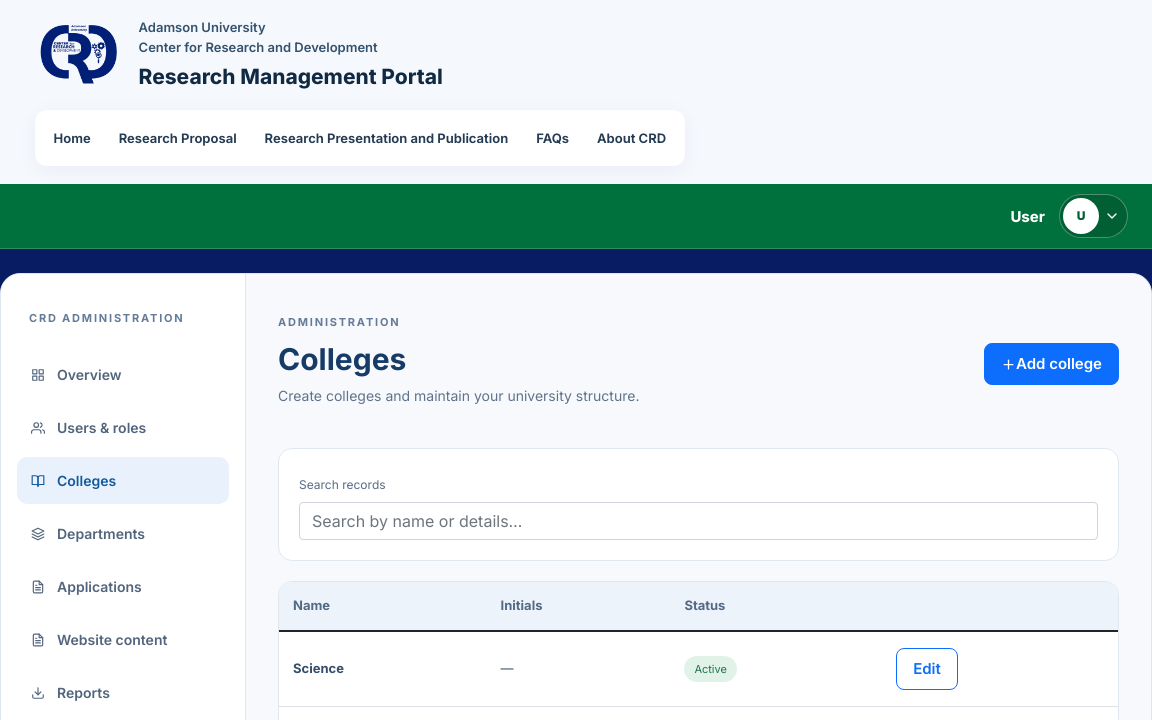
Scenario: switching admin sections does not render previous-section rows in the new view
The width and height of the screenshot is (1152, 720).
Step 1. Click the link "Applications" → coordinates (86, 587), box [31,578,142,596]
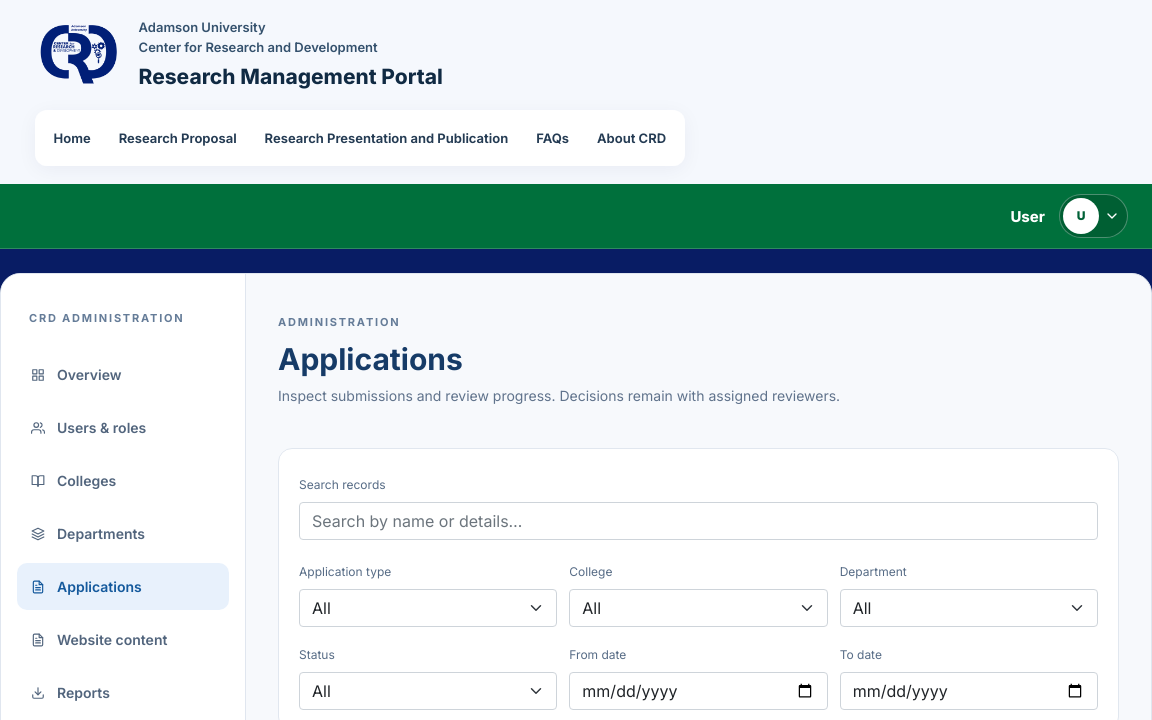
Step 2. Click the link "Overview" → coordinates (76, 375), box [31,366,122,384]
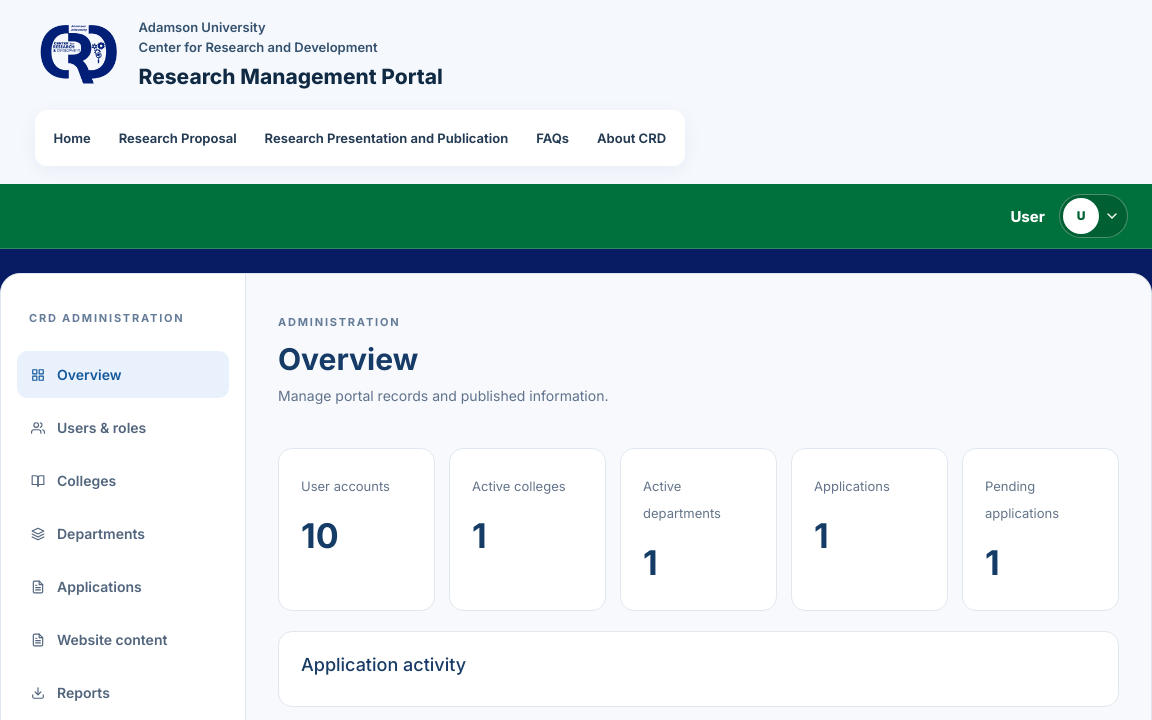
Check: the text "Application activity" is shown, box [301,654,466,676]
